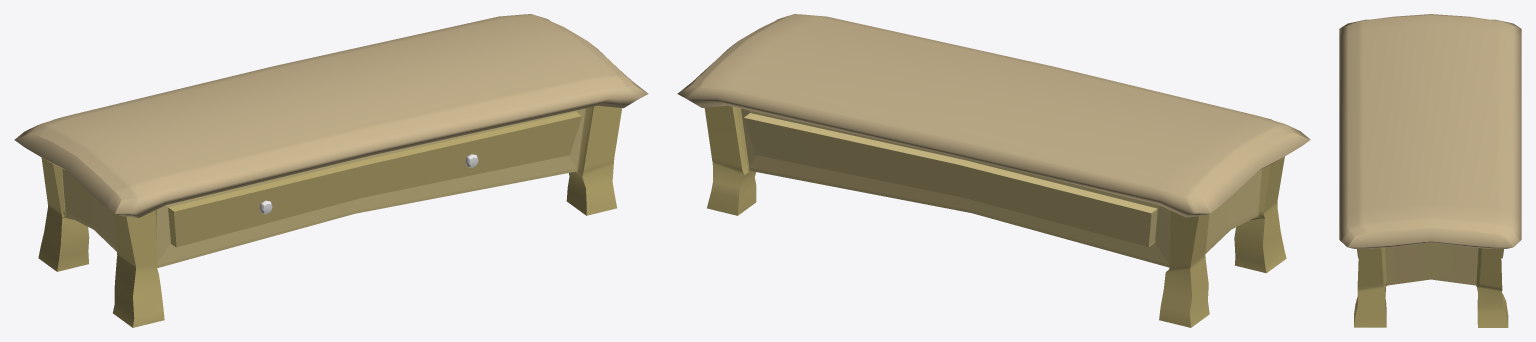
File: new_table.fbx
3 renders of one model, left to right at view 1: azimuth 30°, elevation 25°; view 2: azimuth 150°, elevation 25°; view 3: azimuth 270°, elevation 25°, orthographic. The views are drawn at different scales.
Parts seen in each view (by area): view 1: polySurface28, polySurface34, polySurface29, polySurface33, polySurface32, polySurface31; view 2: polySurface28, polySurface29, polySurface31, polySurface30, polySurface33; view 3: polySurface28, polySurface29, polySurface32, polySurface30.
Part boxes in pixels (x1,y1,x2,y2): polySurface28: (14, 14, 648, 217); polySurface34: (168, 112, 581, 247); polySurface29: (61, 108, 586, 267); polySurface33: (113, 209, 164, 327); polySurface32: (566, 105, 622, 215); polySurface31: (38, 158, 89, 271); polySurface28: (677, 14, 1310, 217); polySurface29: (740, 108, 1262, 267); polySurface31: (1159, 209, 1209, 327); polySurface30: (704, 105, 756, 215); polySurface33: (1234, 156, 1286, 273); polySurface28: (1339, 14, 1521, 248); polySurface29: (1384, 243, 1503, 285); polySurface32: (1354, 248, 1386, 327); polySurface30: (1476, 248, 1508, 327).
Size of the model in its own units: 21.45 by 5.61 by 7.7.
